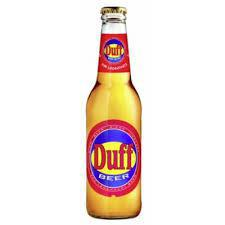beer: (85, 7, 141, 219)
